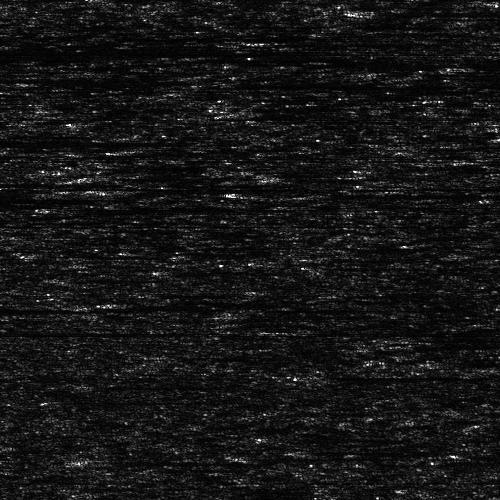object: (308, 5, 413, 16), (49, 172, 164, 181), (293, 371, 386, 380), (75, 300, 138, 307), (211, 38, 294, 43), (97, 186, 170, 191), (286, 190, 349, 195), (63, 457, 116, 462), (476, 272, 500, 281), (481, 300, 500, 311), (292, 447, 333, 452), (0, 74, 17, 85), (26, 206, 79, 209), (486, 96, 500, 103)
shadow: (0, 44, 404, 59), (0, 132, 192, 141), (361, 5, 500, 16), (107, 172, 247, 181), (340, 371, 478, 380), (0, 74, 98, 85), (134, 186, 341, 191), (317, 190, 500, 195), (107, 300, 237, 307), (0, 329, 118, 336), (253, 38, 415, 43), (0, 138, 114, 145), (313, 447, 447, 452), (90, 457, 216, 462), (52, 206, 188, 209), (0, 178, 79, 183), (0, 308, 22, 313)
